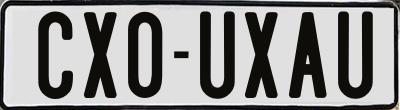0: (125, 10, 160, 100)
A: (287, 10, 327, 96)
C: (36, 10, 74, 99)
U: (336, 8, 374, 97), (199, 8, 236, 99)
X: (245, 12, 283, 98), (84, 12, 120, 100)
